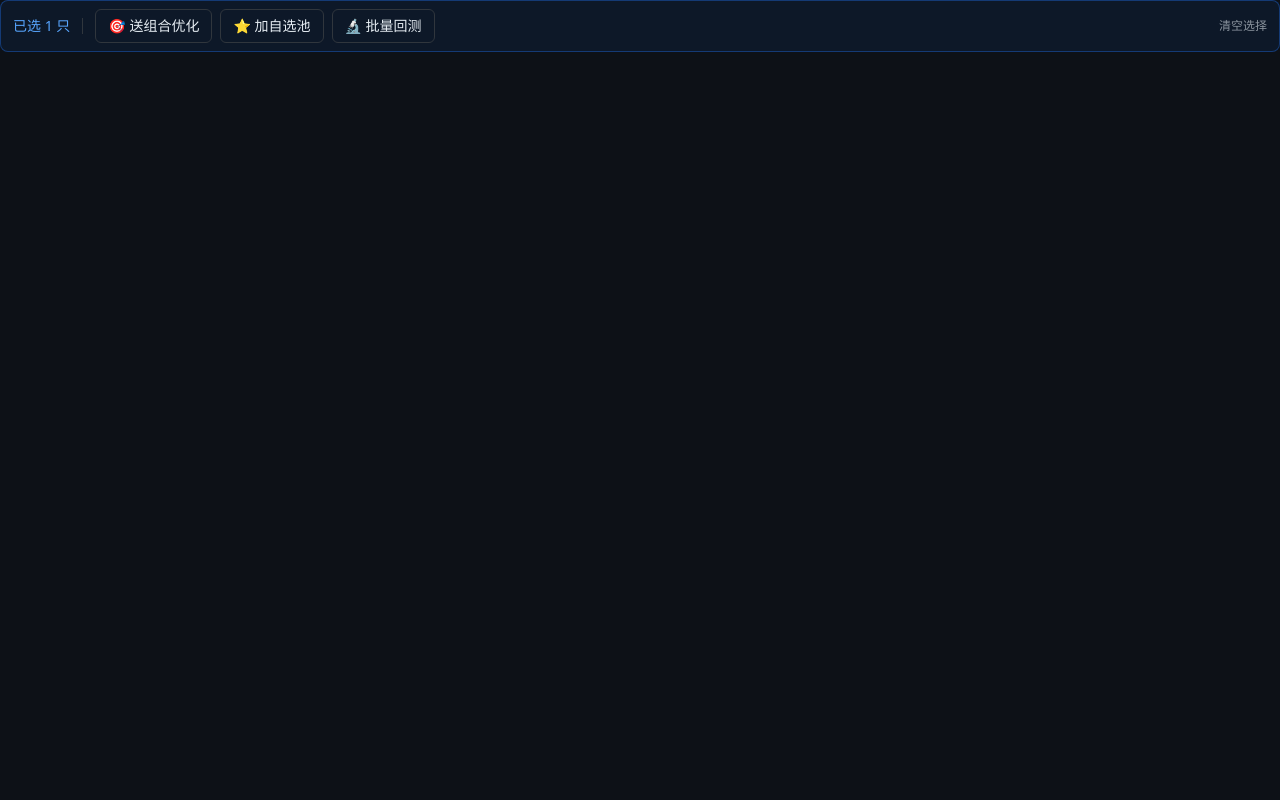
Test: SelectionActions › refuses to send a single symbol to the optimizer
Click the button "🎯 送组合优化": (154, 26) x1=95 y1=9 x2=212 y2=43
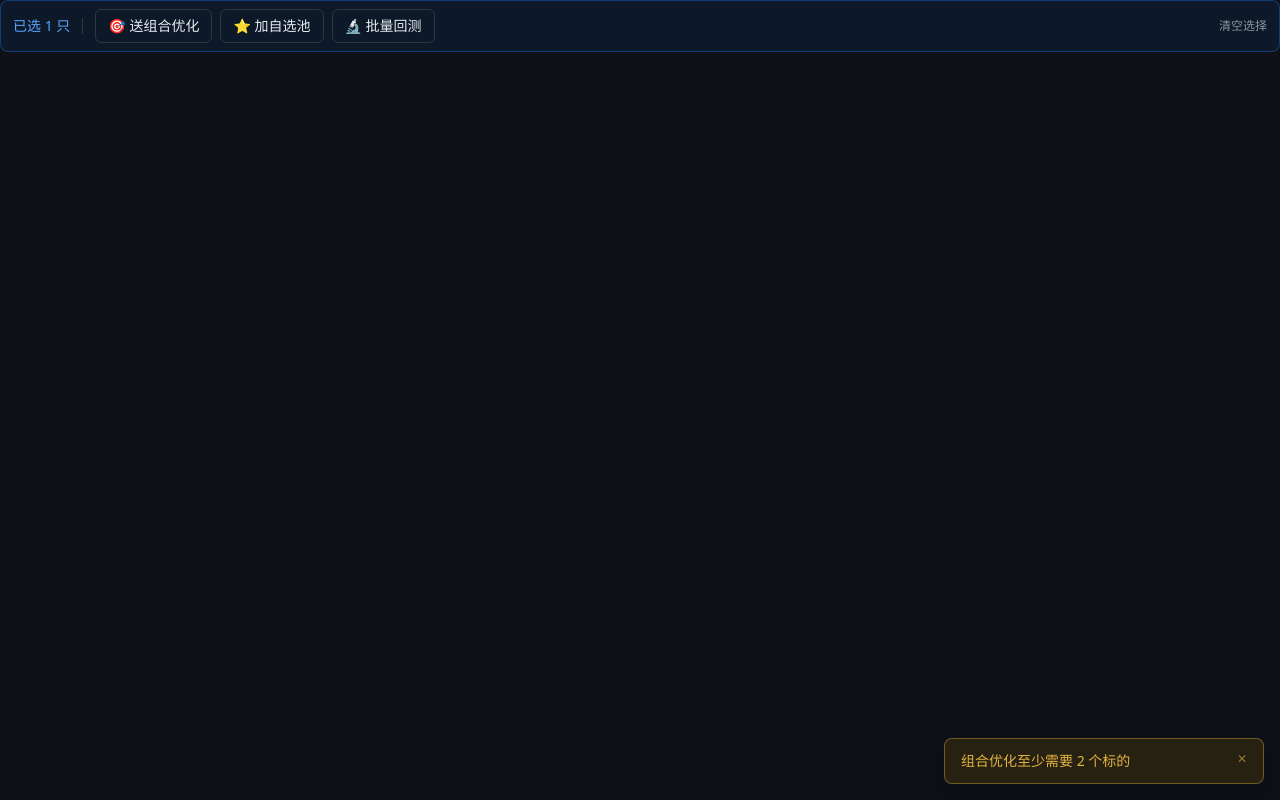
Expected: the text "组合优化至少需要 2 个标的" is shown, x1=961 y1=751 x2=1130 y2=770
